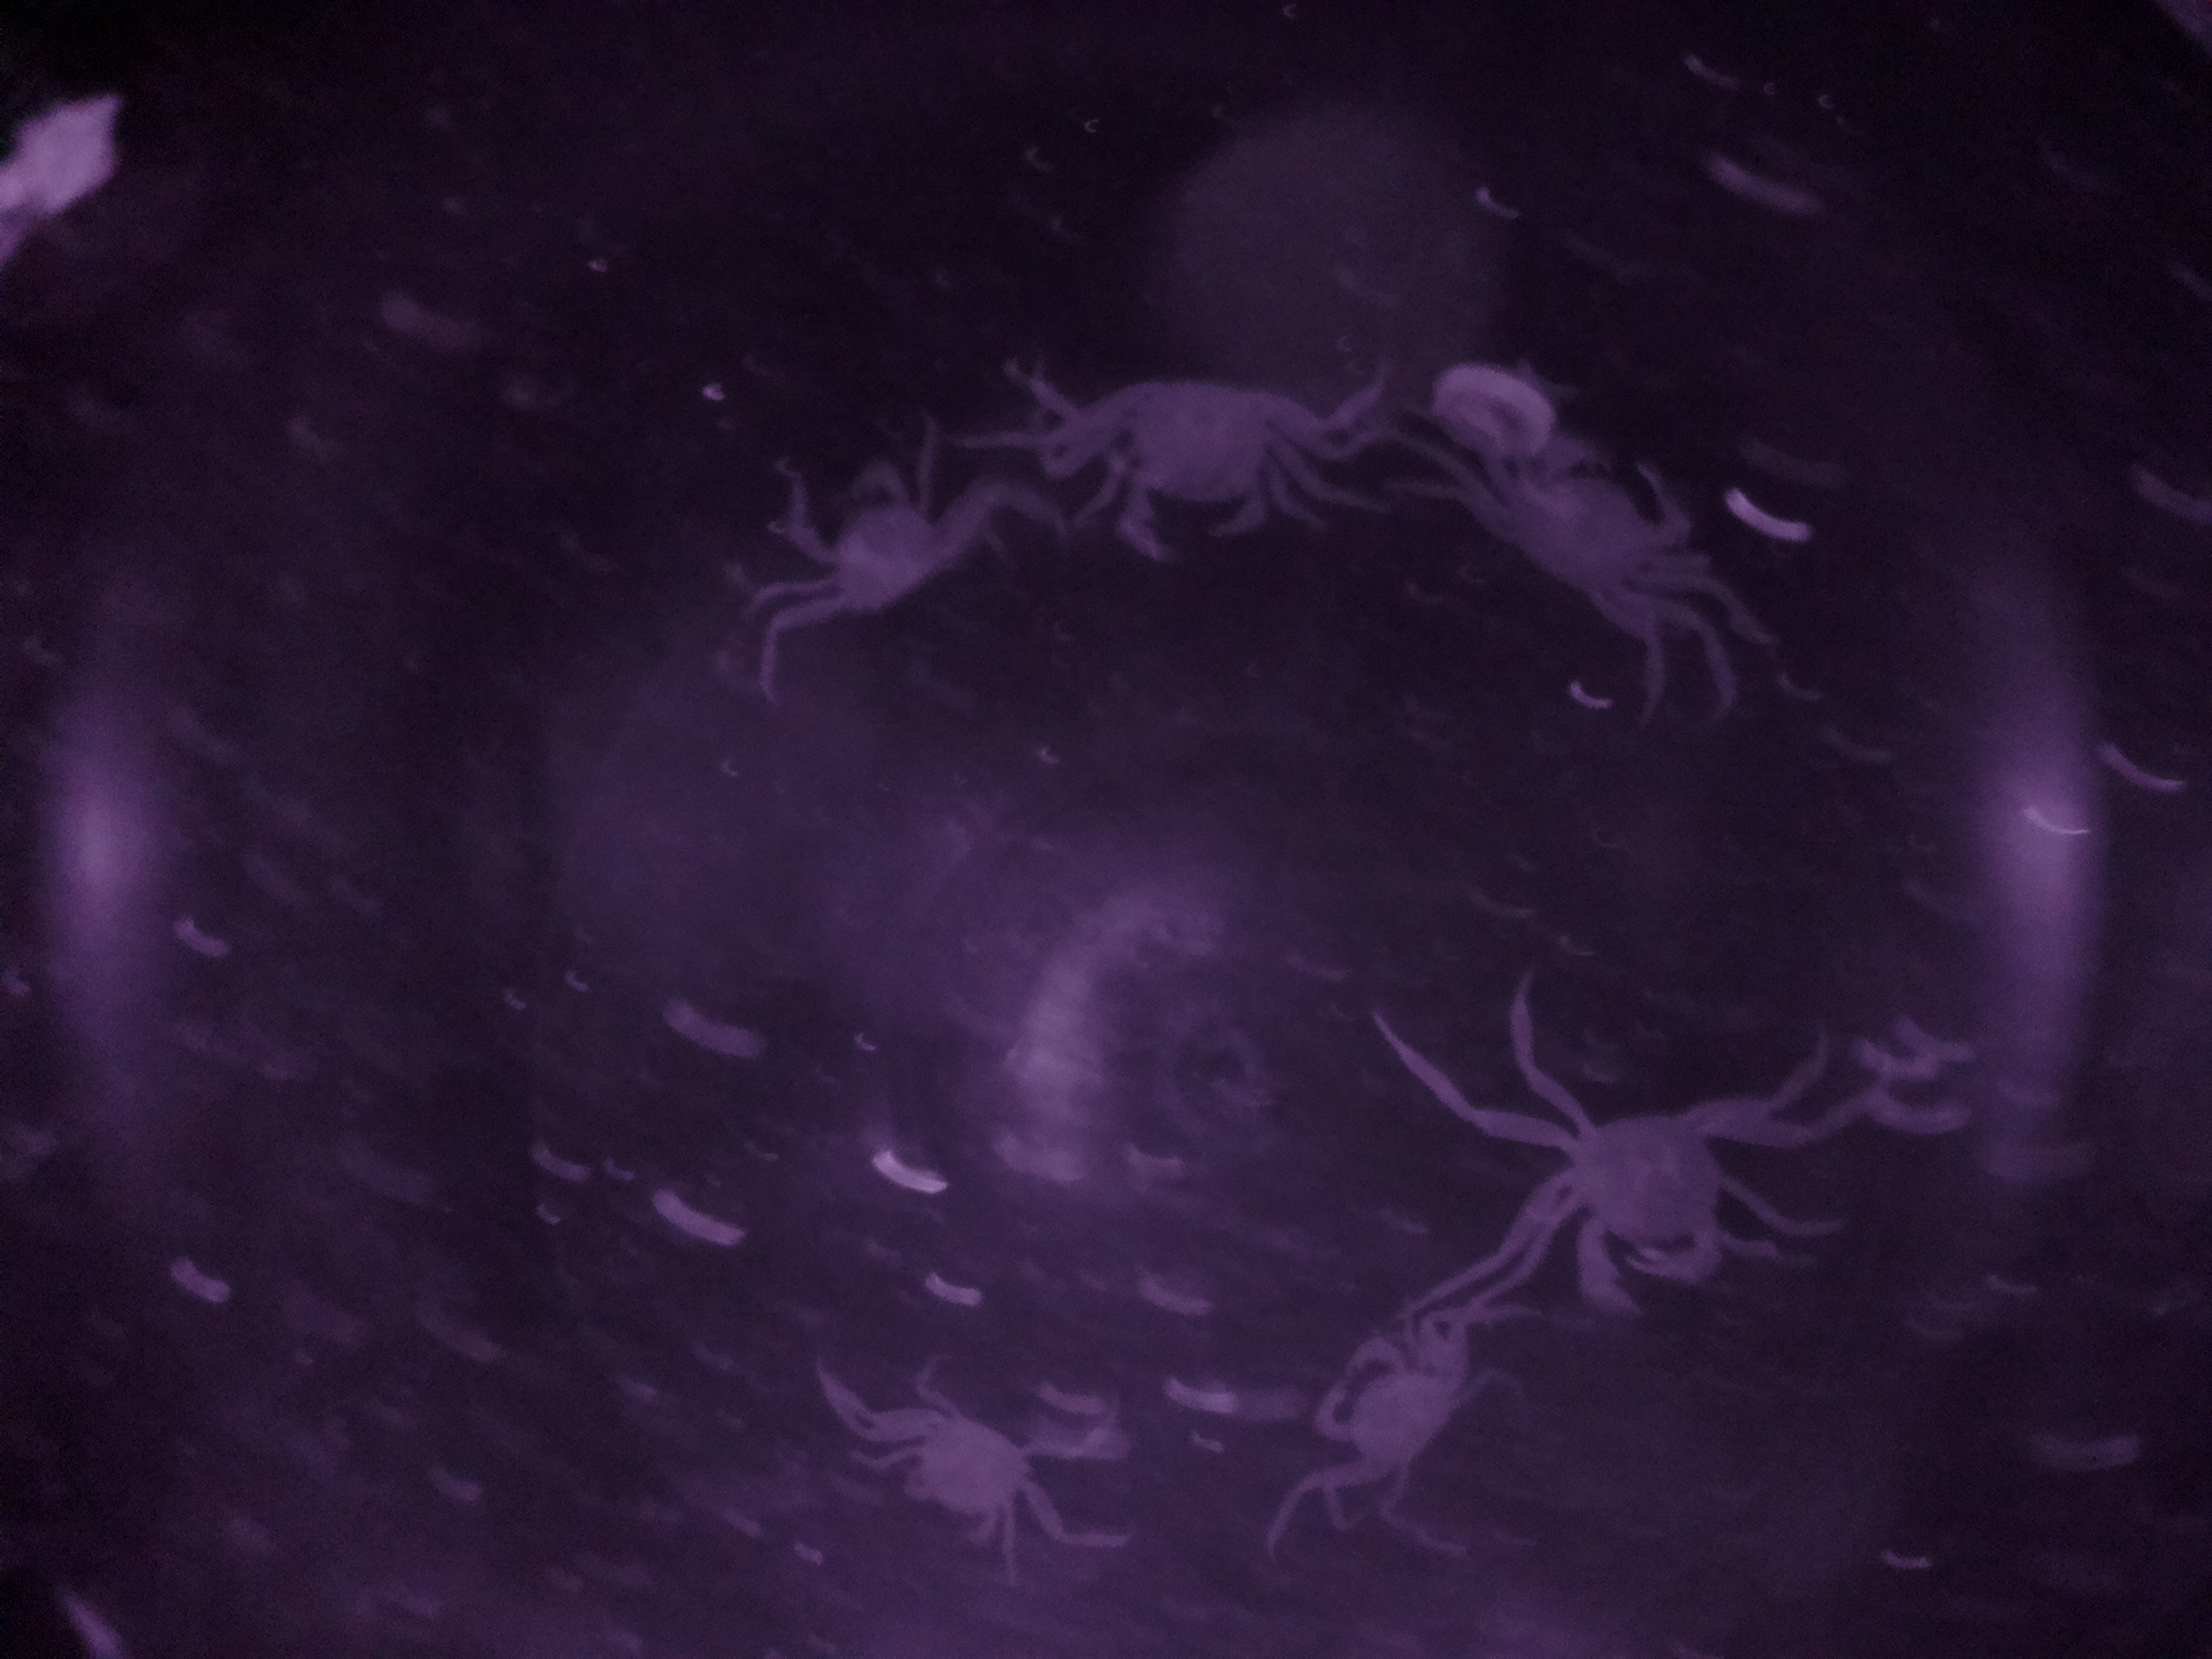Crab: (1505, 1054, 1810, 1344), (1043, 352, 1366, 598), (1460, 392, 1719, 664), (770, 423, 989, 664), (1292, 1307, 1508, 1518), (867, 1373, 1059, 1575)
